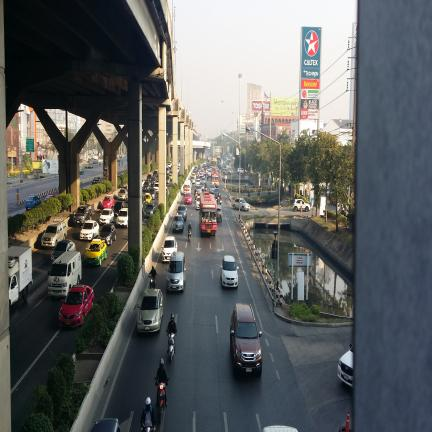bus: (200, 193, 217, 236), (211, 170, 219, 187), (210, 158, 217, 168)
car: (230, 303, 262, 376), (137, 288, 164, 334), (166, 252, 186, 291), (41, 219, 67, 248), (220, 255, 239, 287), (51, 239, 76, 263), (80, 220, 100, 240), (162, 236, 177, 261), (99, 223, 116, 245), (99, 208, 114, 225), (116, 208, 128, 228), (233, 198, 250, 211), (172, 214, 184, 232), (293, 199, 310, 211), (143, 203, 155, 218), (113, 201, 125, 216), (177, 205, 187, 220), (117, 188, 128, 200), (142, 186, 149, 201), (143, 192, 152, 203), (149, 187, 156, 199), (142, 180, 150, 190), (153, 182, 159, 195), (213, 188, 221, 196), (222, 168, 231, 175), (150, 176, 157, 185), (196, 195, 200, 210), (196, 185, 202, 195), (195, 179, 201, 188), (209, 185, 215, 194), (237, 168, 245, 174), (166, 176, 171, 185), (146, 174, 152, 181), (153, 170, 158, 177)
human: (142, 398, 155, 425), (155, 359, 168, 384), (168, 313, 176, 334), (150, 266, 156, 277), (188, 222, 191, 229)
motorbike: (156, 383, 166, 423), (166, 330, 175, 363), (149, 274, 156, 289), (217, 205, 222, 223), (142, 426, 154, 432), (188, 231, 191, 242), (155, 378, 156, 380), (168, 379, 169, 380)
pickup: (73, 205, 92, 226)
taxi: (59, 285, 94, 327), (85, 239, 107, 265), (25, 195, 41, 209), (102, 196, 114, 209), (184, 193, 192, 204), (145, 193, 152, 203)
truck: (8, 246, 33, 306)
van: (48, 251, 82, 296), (183, 180, 191, 193)
